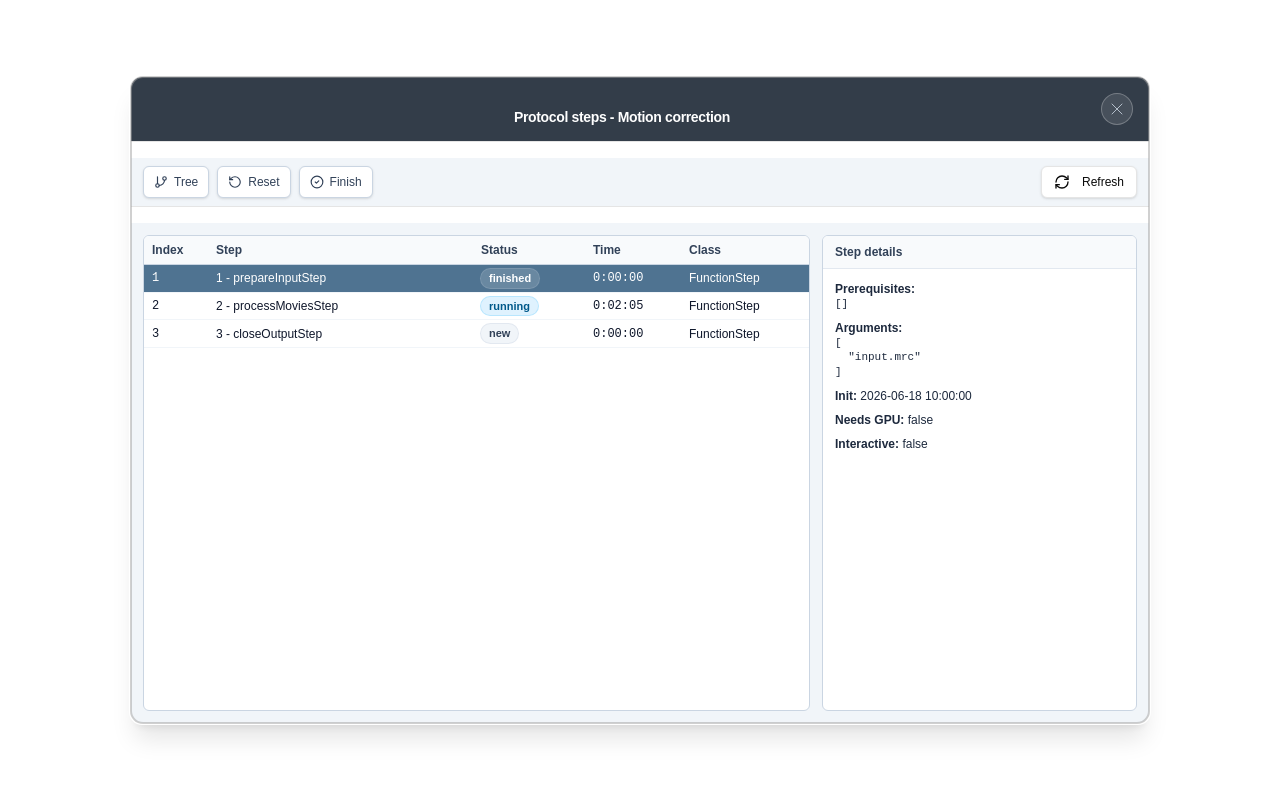
ProtocolStepsDeveloperDialog › resets the selected step to new
The width and height of the screenshot is (1280, 800).
Expected: the text "1 - prepareInputStep" is shown, [216, 271, 326, 285]
Click the button "Reset" at coordinates (254, 182), box [217, 166, 291, 198]
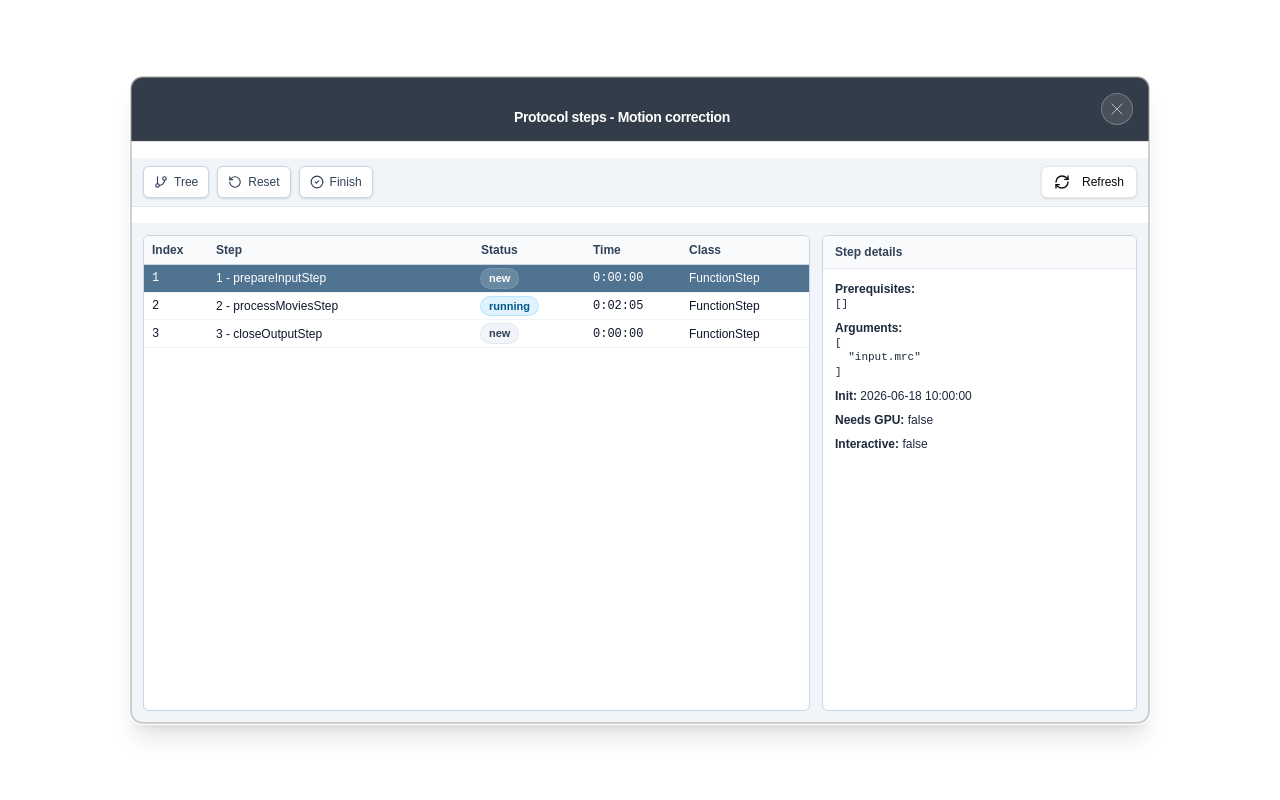
Expected: the text "1 - prepareInputStep" is shown, [144, 264, 809, 292]
Now the text "new" next to "prepareInputStep" is shown, box [489, 272, 510, 284]
